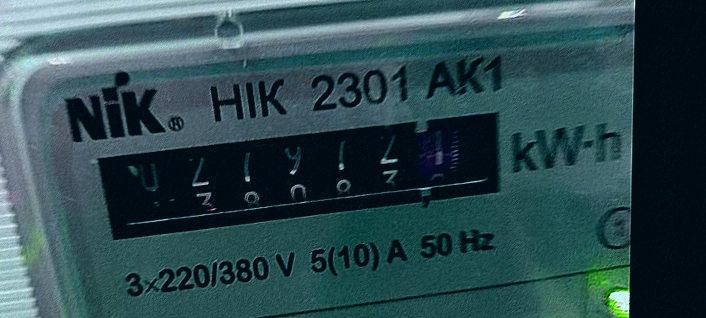0: (133, 157, 162, 193)
1: (427, 125, 450, 169)
2: (182, 149, 212, 188), (373, 128, 402, 166)
7: (326, 132, 353, 174), (233, 147, 256, 184)
9: (280, 140, 306, 176)
screen: (78, 95, 533, 257)
